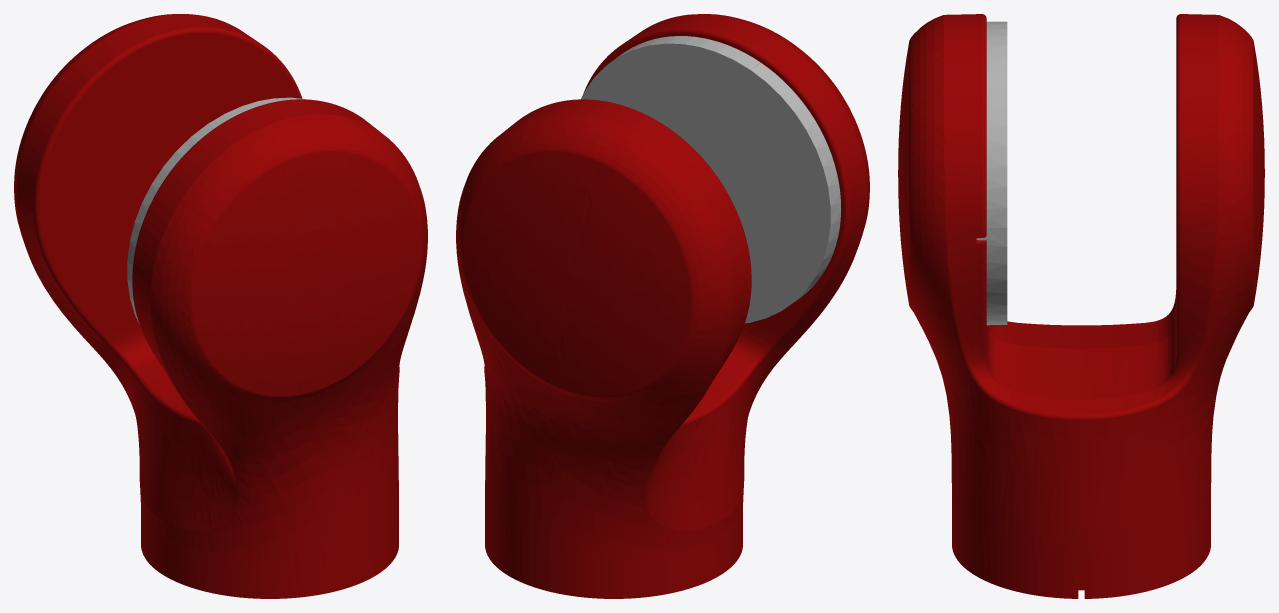
3 views of the same model, side by side, from view 1: azimuth 30°, elevation 25°; view 2: azimuth 150°, elevation 25°; view 3: azimuth 270°, elevation 25° (orthographic).
Parts seen in each view (by area): view 1: Link4; view 2: Link4; view 3: Link4.
Part boxes in pixels (x1=…): Link4: x1=14, y1=14, x2=427, y2=598; Link4: x1=456, y1=14, x2=869, y2=598; Link4: x1=898, y1=14, x2=1264, y2=598.
Bounding box in the file's own units: 0.1095 × 0.1714 × 0.116.
